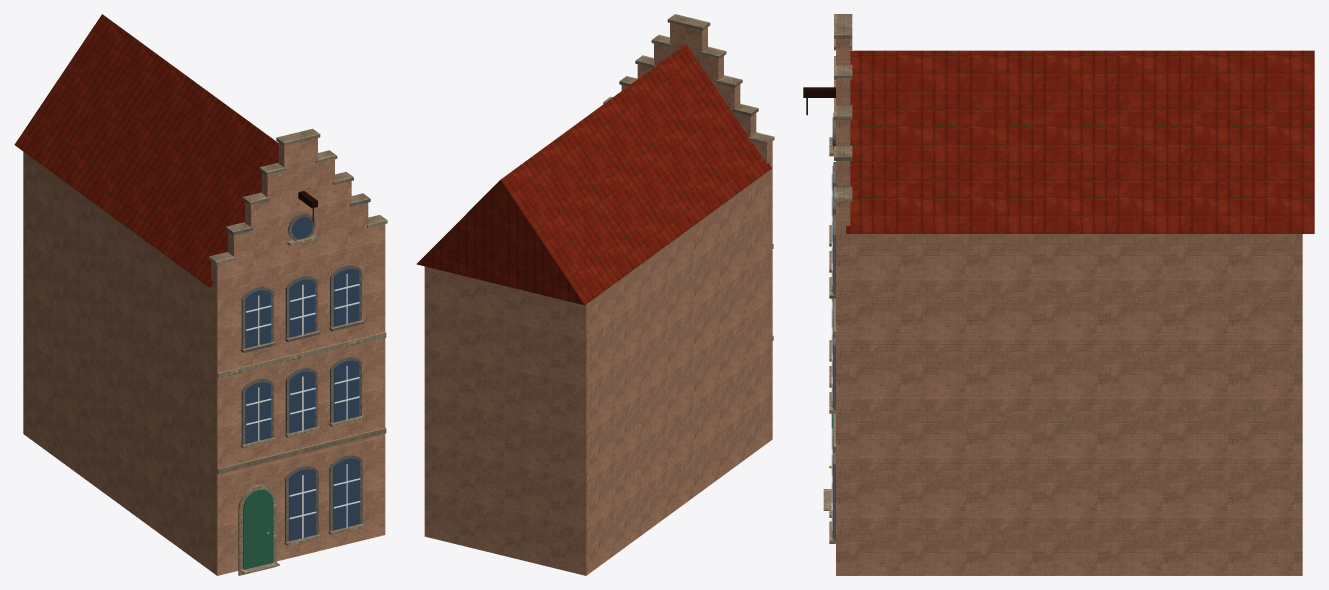
Rendered from holandesa_w6_2.gltf.
The picture shows the model from 3 angles, left to right: view 1: azimuth 30°, elevation 25°; view 2: azimuth 150°, elevation 25°; view 3: azimuth 270°, elevation 25°; orthographic projection. The views are drawn at different scales.
Parts seen in each view (by area): view 1: holandesa_w6_2; view 2: holandesa_w6_2; view 3: holandesa_w6_2.
Part boxes in pixels (left/top/right/bottom): holandesa_w6_2: left=14, top=14, right=387, bottom=575; holandesa_w6_2: left=416, top=14, right=774, bottom=575; holandesa_w6_2: left=803, top=14, right=1314, bottom=575.
Size of what is drawn, in the model's own units: 5.96 by 13.67 by 12.5.
7 materials, 4 textured.
